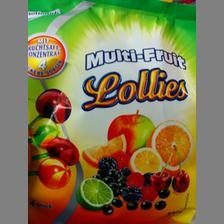Suessigkeit: (26, 0, 194, 222)
